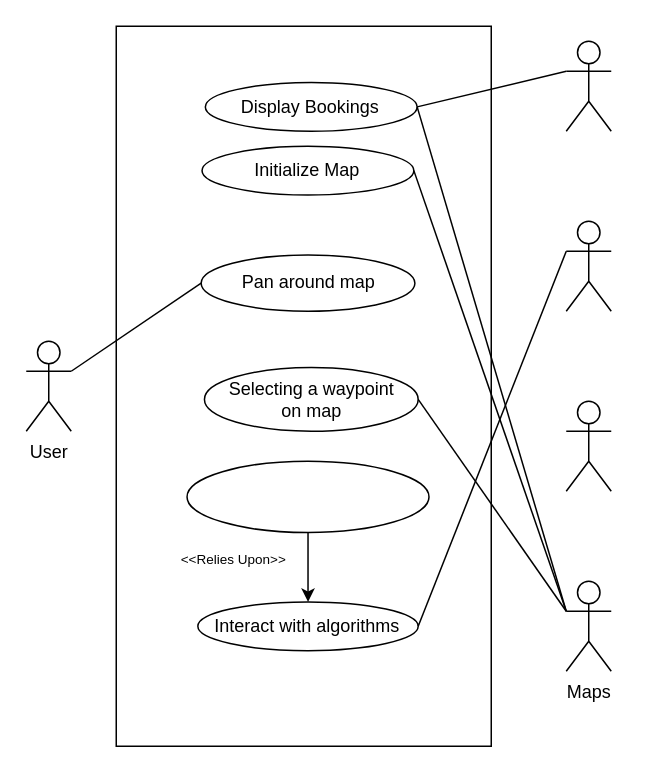
Some shapes in this 657 by 773 pixel diagram are drawn without their labels. The centre of each missing label's shape, as x and y in pixels:
"Algorithms" goes at pixel 588 265.
"Display route/flight path on map" goes at pixel 307 496.
"GUI" goes at pixel 588 85.
"Payment" goes at pixel 588 445.
